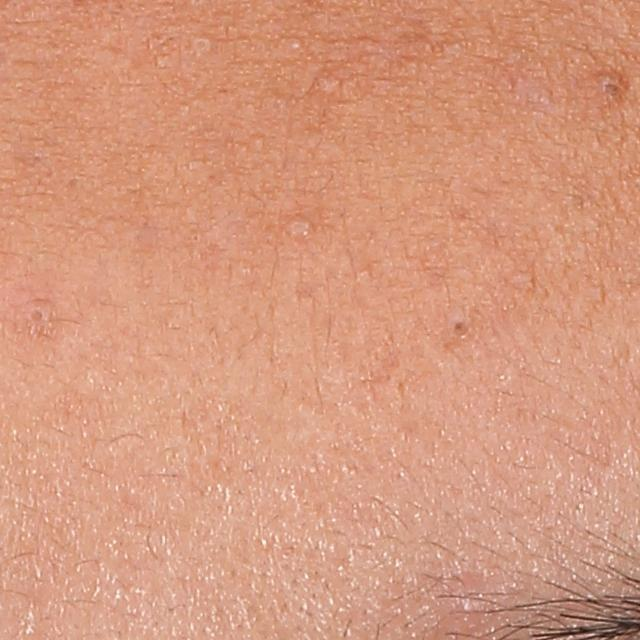comedo: (596, 74, 624, 99), (285, 218, 316, 238), (190, 33, 215, 53), (24, 306, 45, 329), (287, 34, 307, 51), (448, 318, 468, 334)
